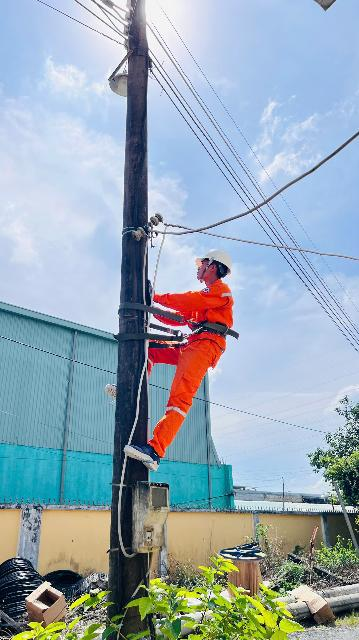gloves: (146, 284, 164, 301)
harness: (186, 319, 242, 348)
helmet: (190, 247, 243, 277)
shoes: (121, 436, 168, 476), (104, 380, 130, 403)
